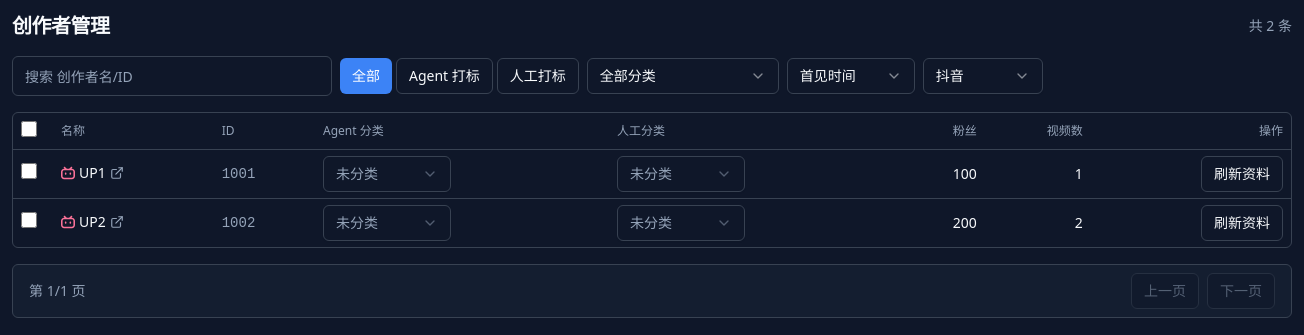
平台筛选：URL source=douyin 直入 → 请求带 source=douyin；抖音选项在列
The image size is (1304, 335).
Expected: the text "UP1" is shown, top-left (61, 162), bottom-right (124, 182)
# 下拉第四项存在且受控回显「抖音」
Press the mouse on the dropdown named "平台筛选" at (983, 76), box top-left (923, 58), bottom-right (1043, 94)
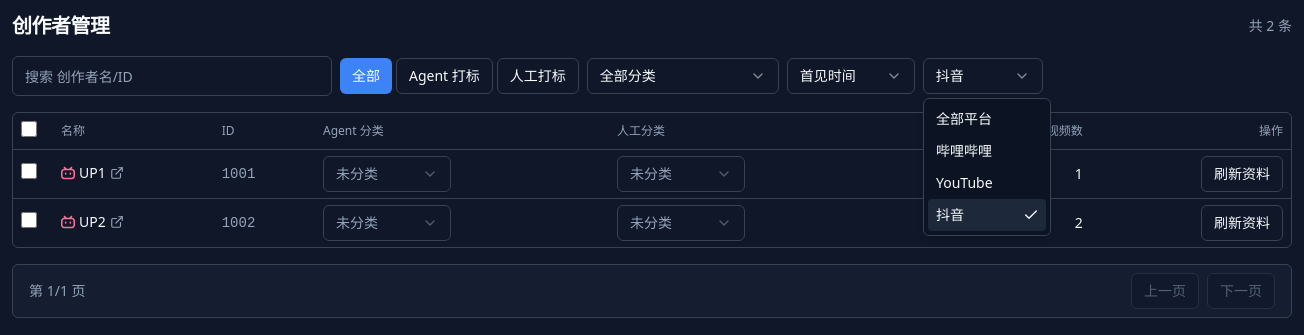
Result: the option "抖音" is shown at top-left (928, 199), bottom-right (1046, 231)
